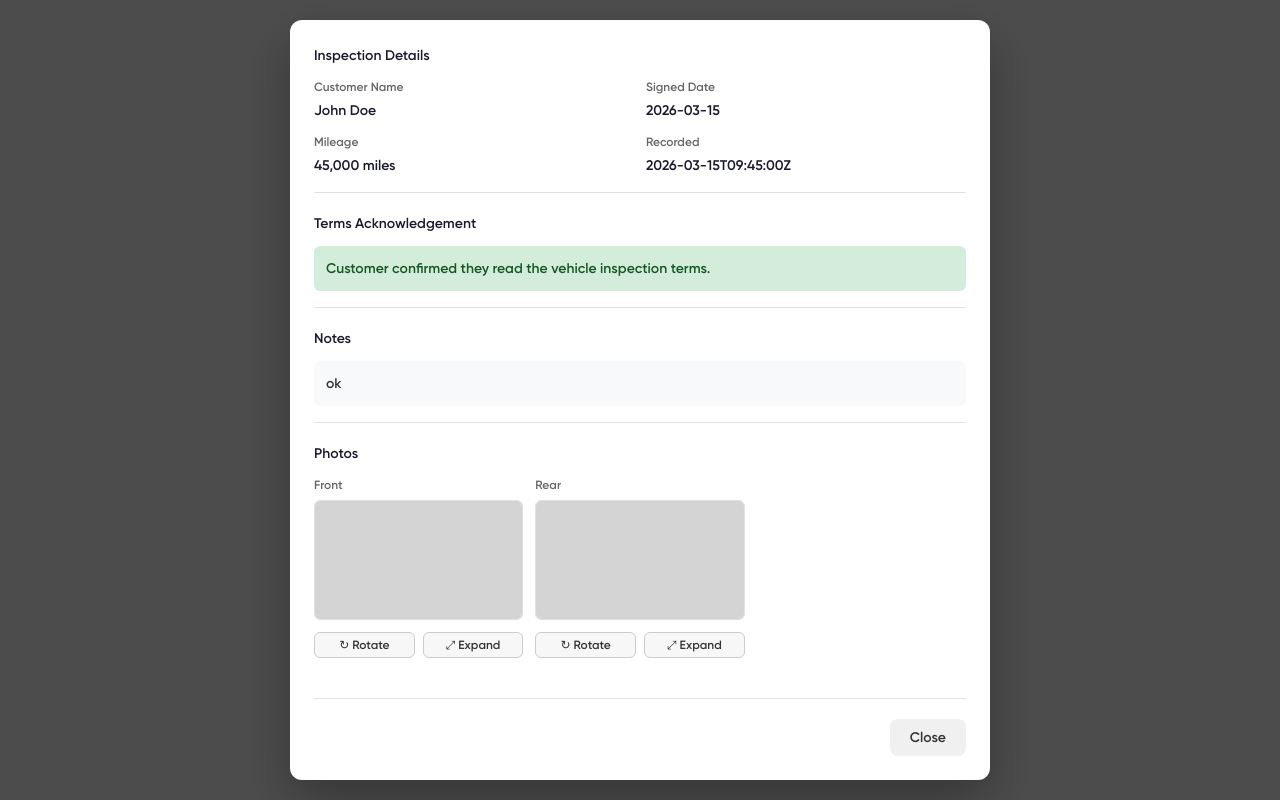
Test case: Admin inspection photo viewer — expand / rotate / zoom › close button removes the viewer
(page scrolled)
Click the button "⤢ Expand" below "Front". click: click(473, 645)
box: x1=423 y1=632 x2=523 y2=658
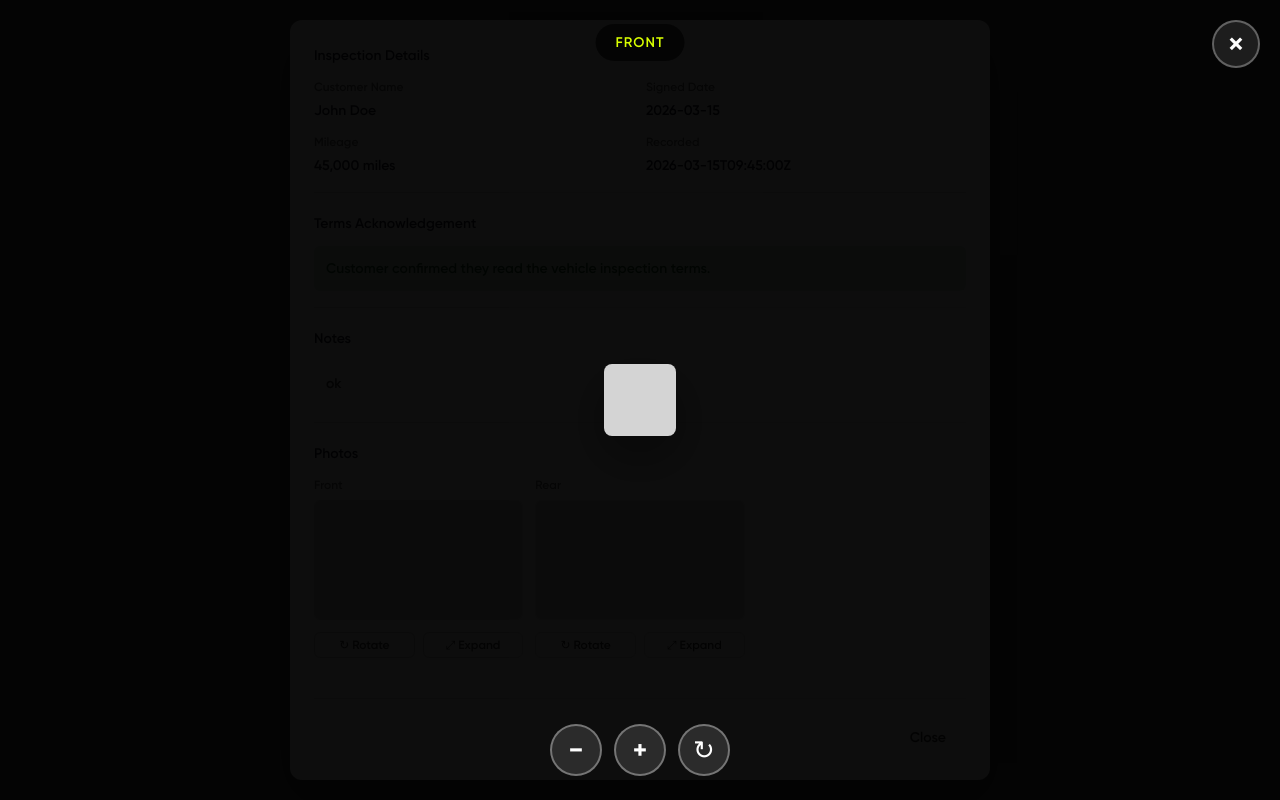
expect the element with class "image-viewer-overlay" is shown: met
Click the button with class "image-viewer-close". click: click(1236, 44)
box: x1=1212 y1=20 x2=1260 y2=68
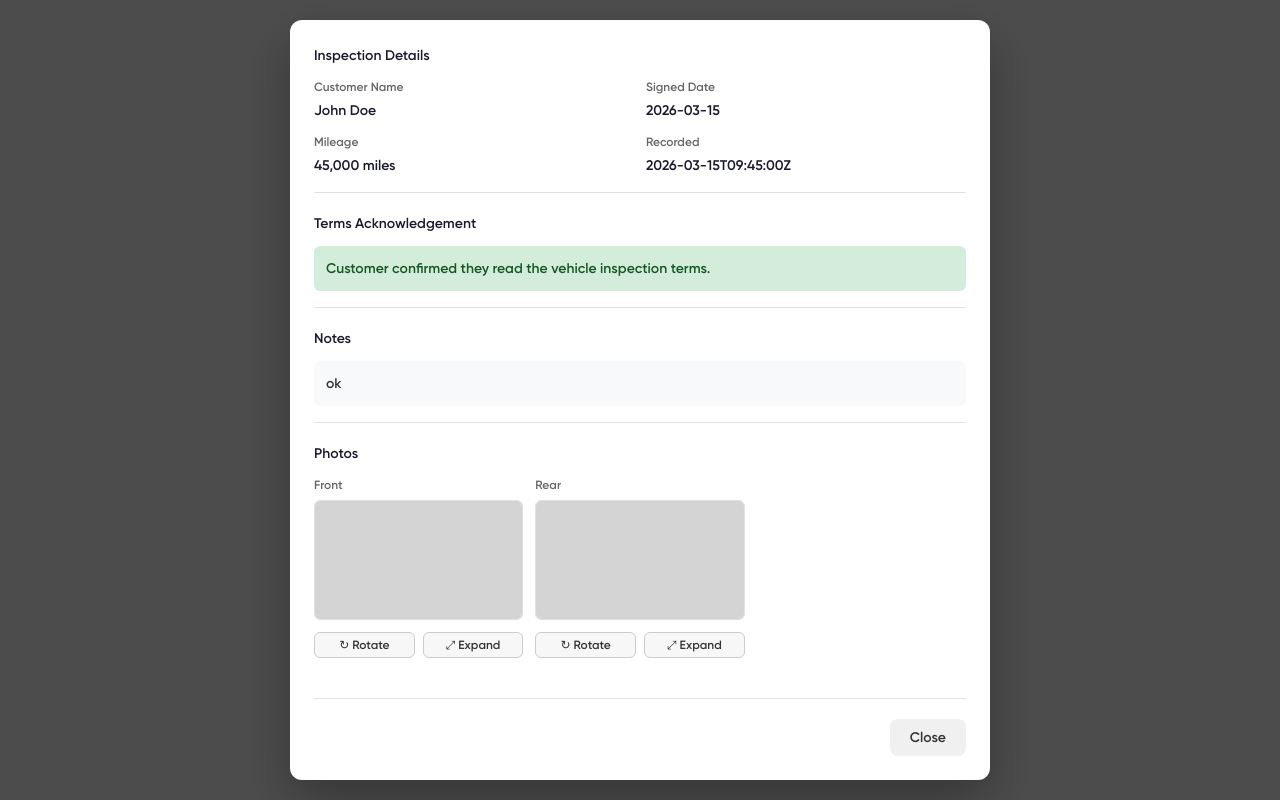
expect the element with class "image-viewer-overlay" is gone: met
